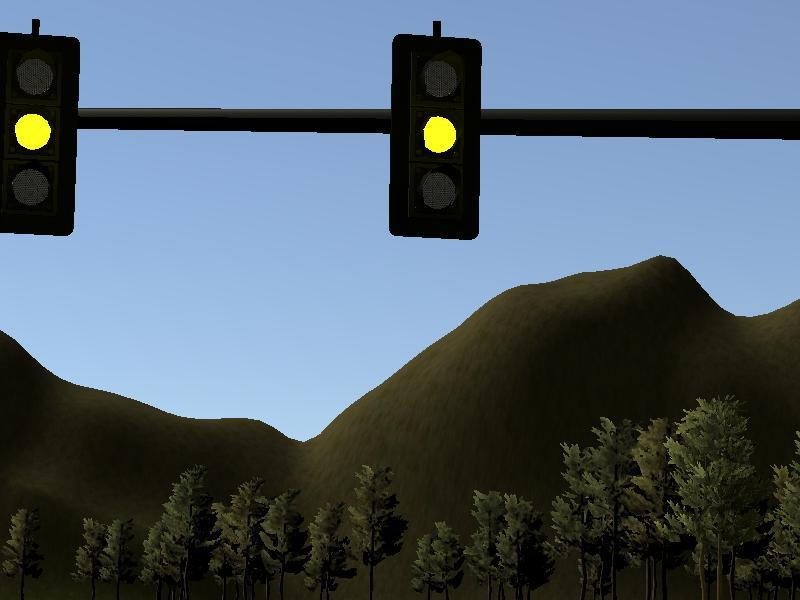Yellow: (388, 33, 482, 240), (1, 34, 81, 237)
